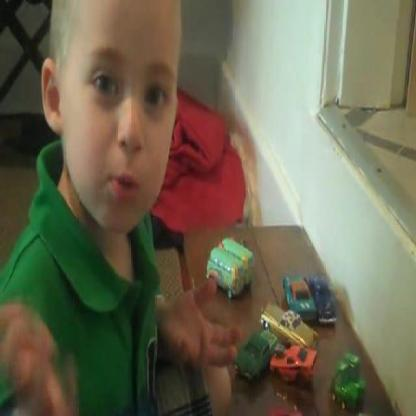other: (165, 94, 255, 211), (262, 292, 322, 383)
